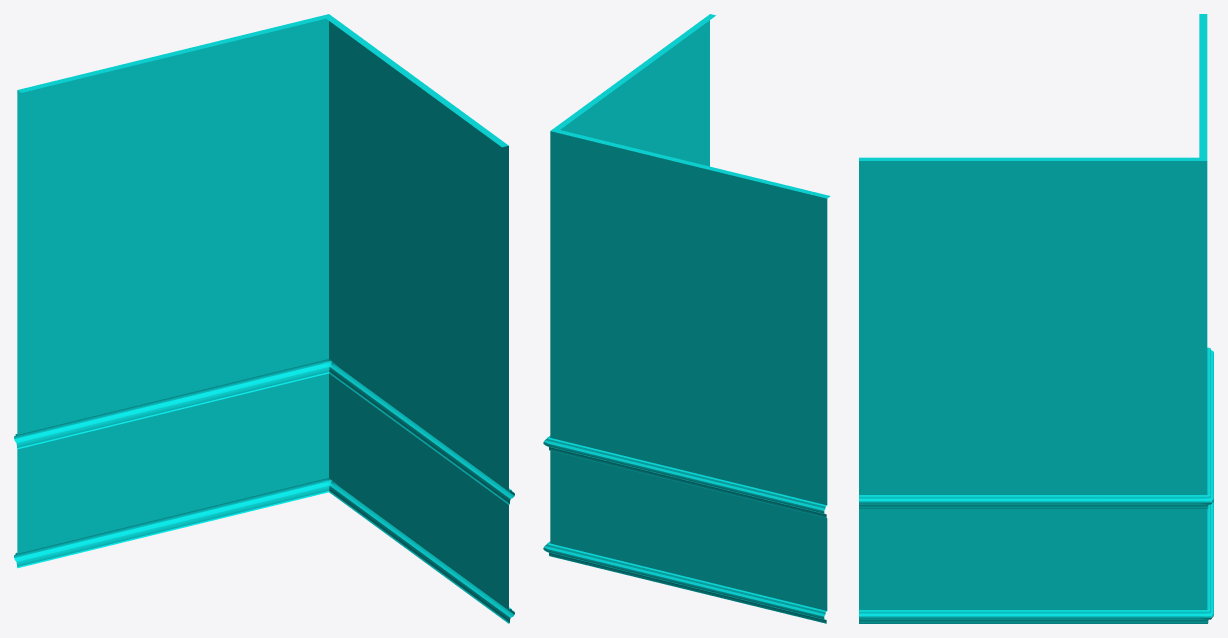
Rendered from ModCorner.fbx.
3 views of the same model, side by side, from view 1: azimuth 30°, elevation 25°; view 2: azimuth 150°, elevation 25°; view 3: azimuth 270°, elevation 25° (orthographic). The views are drawn at different scales.
Parts seen in each view (by area): view 1: ModCorner; view 2: ModCorner; view 3: ModCorner.
Boxes of the visible parts, bbox=[...] form: ModCorner: bbox=[14, 14, 514, 623]; ModCorner: bbox=[543, 14, 830, 623]; ModCorner: bbox=[859, 14, 1213, 623].
Size of the model in its own units: 250 by 360 by 250.
